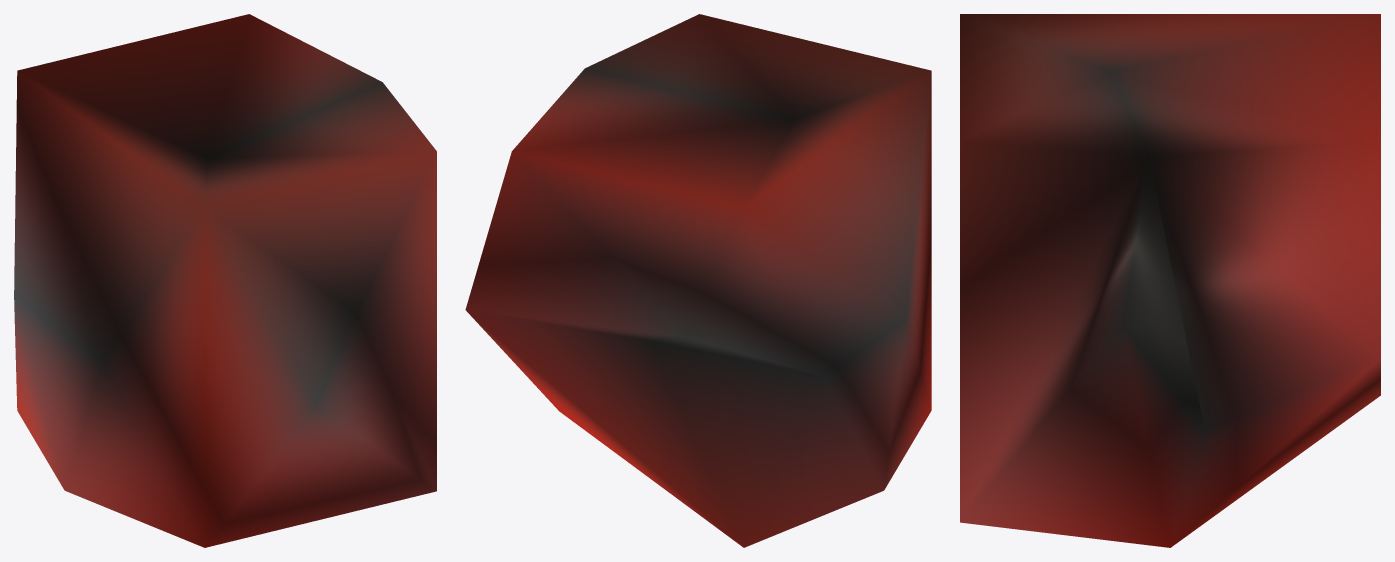
Rendered from solar_box_lod8.glb.
3 renders of one model, left to right at view 1: azimuth 30°, elevation 25°; view 2: azimuth 150°, elevation 25°; view 3: azimuth 270°, elevation 25°, orthographic. The views are drawn at different scales.
Visible parts, largest first — view 1: solar_box; view 2: solar_box; view 3: solar_box.
Boxes of the visible parts, box(x1,y1,x2,y2) form: solar_box: box(14, 14, 436, 547); solar_box: box(465, 14, 931, 547); solar_box: box(960, 14, 1380, 547).
Bounding box in the file's own units: 2 × 2 × 2.
